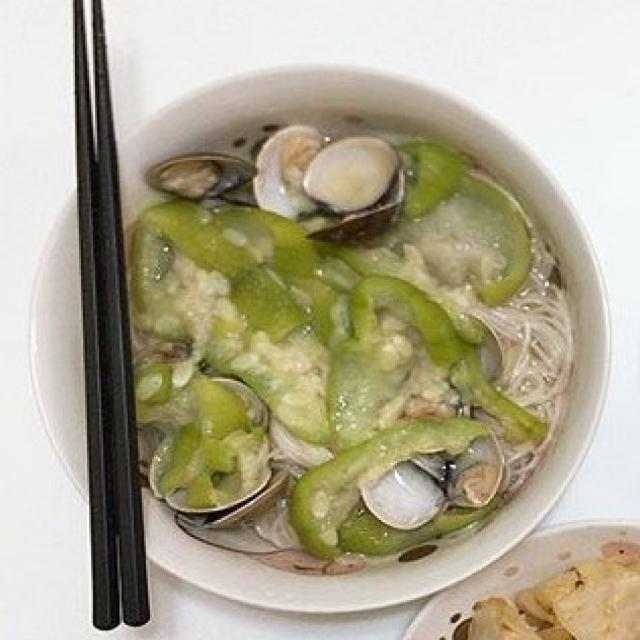Wet: (125, 118, 568, 552)
